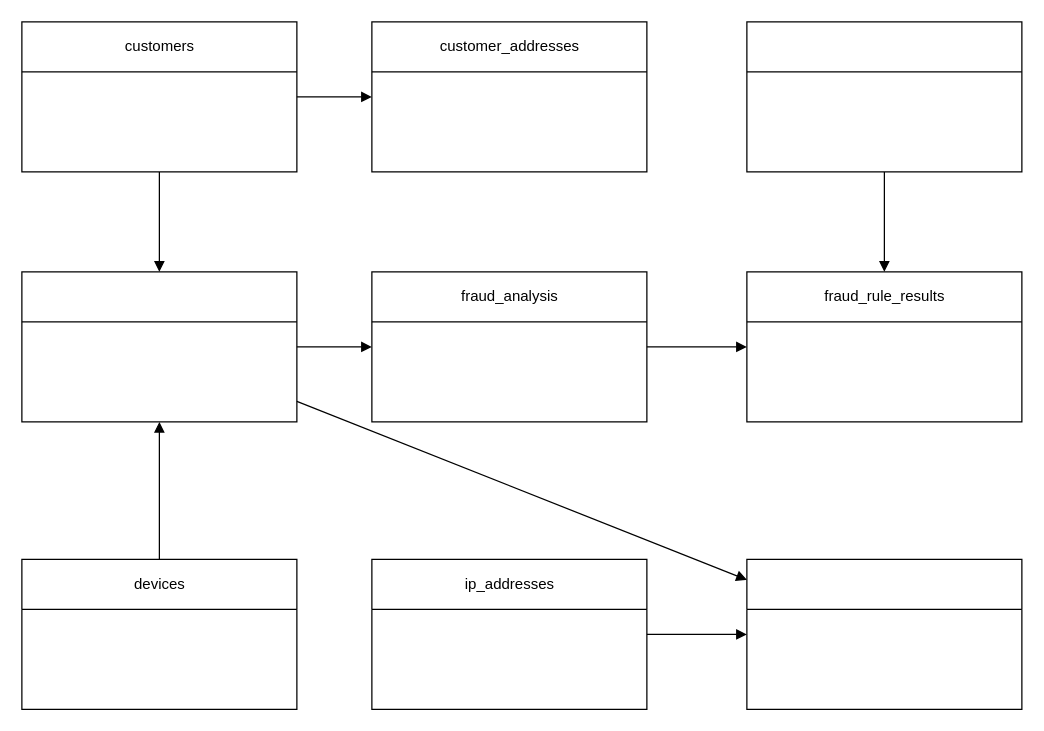
The diagram is 1044 pixels wide and 731 high, and some of its shapes have lost their labels. The shapes that lost their labels are listed below. From the top down, each one's box as (x1, y1, x2, y2) in pixels, then its label:
(746, 21, 1022, 172): fraud_rules
(21, 271, 297, 422): loan_applications
(746, 558, 1022, 709): location_evidences
